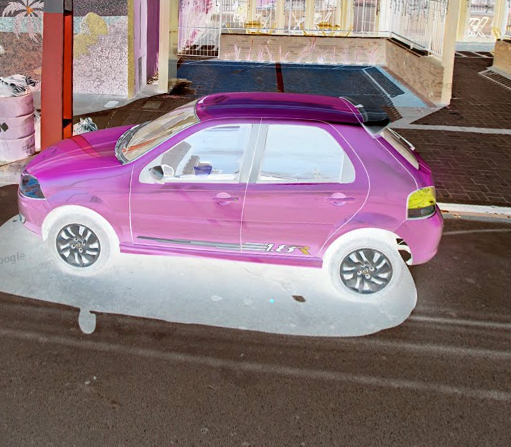car: (15, 91, 447, 307)
